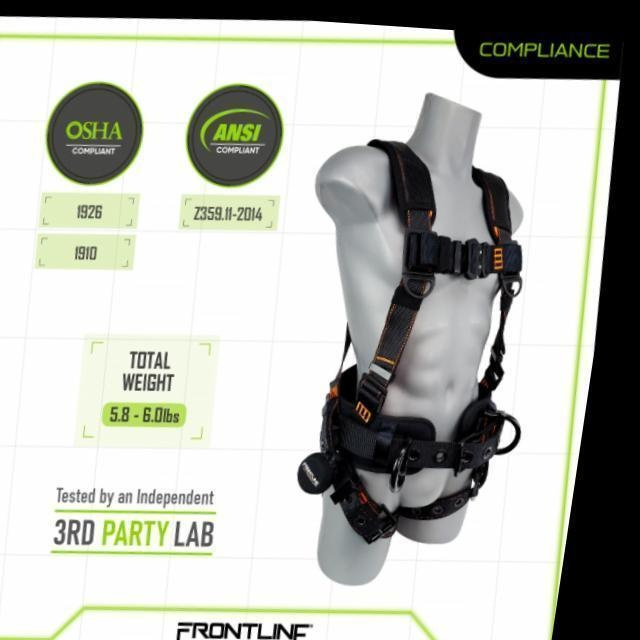Arnes_seguridad: (298, 134, 523, 545)
